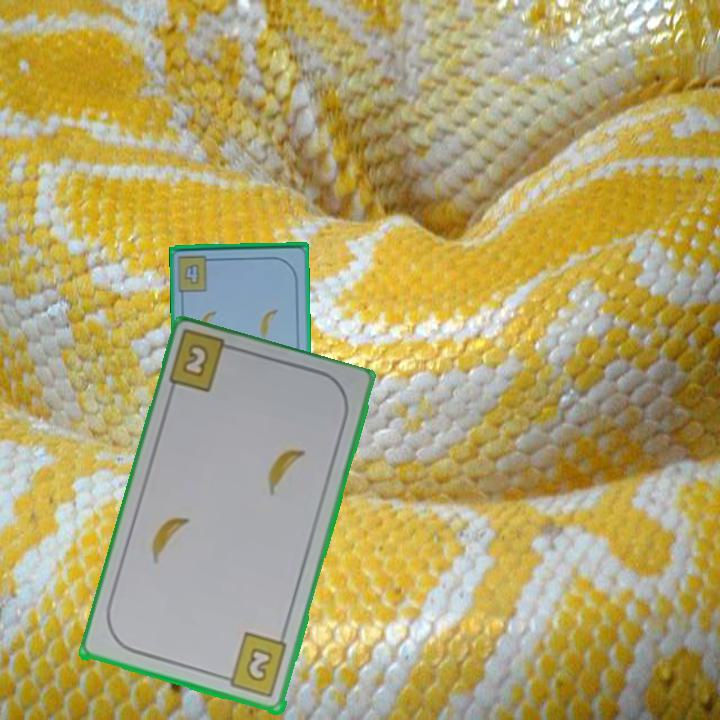2b: (218, 630, 291, 701), (179, 343, 210, 381)
4b: (181, 261, 203, 288)
